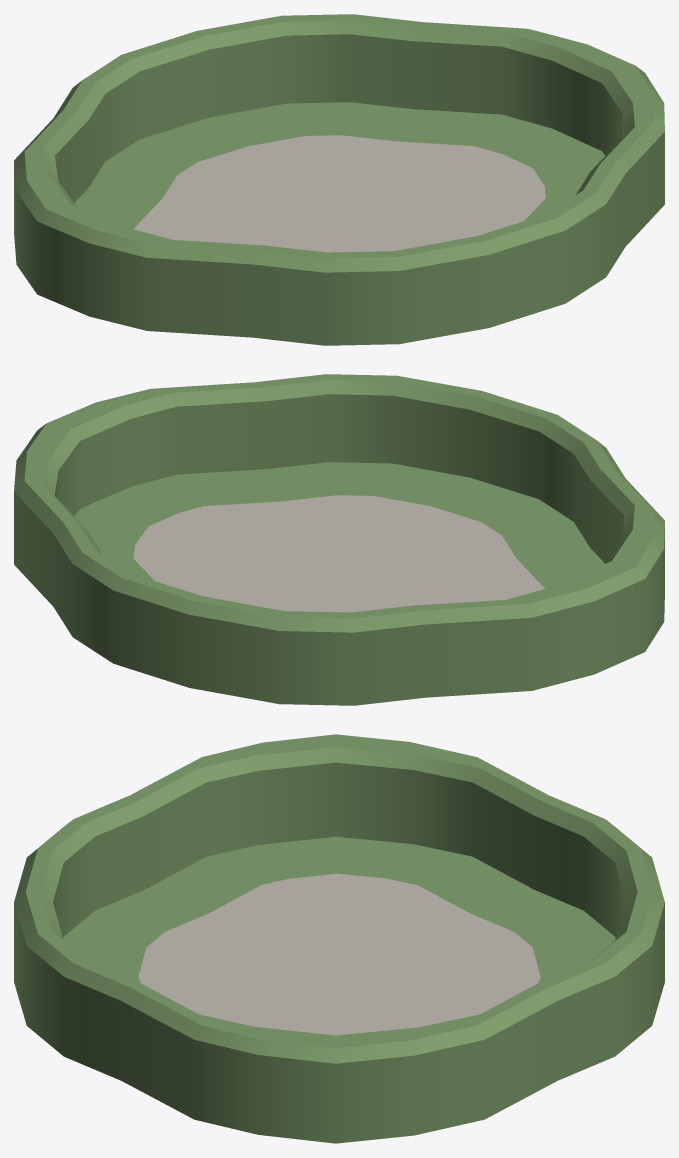
File: Garden_hedge.fbx
The picture shows the model from 3 angles, top to bottom: view 1: azimuth 30°, elevation 25°; view 2: azimuth 150°, elevation 25°; view 3: azimuth 270°, elevation 25°; orthographic projection. The views are drawn at different scales.
Visible parts, largest first — view 1: Garden_hedge; view 2: Garden_hedge; view 3: Garden_hedge.
Boxes of the visible parts, x1=… form: Garden_hedge: x1=14, y1=14, x2=664, y2=345; Garden_hedge: x1=14, y1=374, x2=664, y2=705; Garden_hedge: x1=14, y1=734, x2=664, y2=1143.
Bounding box in the file's own units: 1462 × 190 × 1241.
